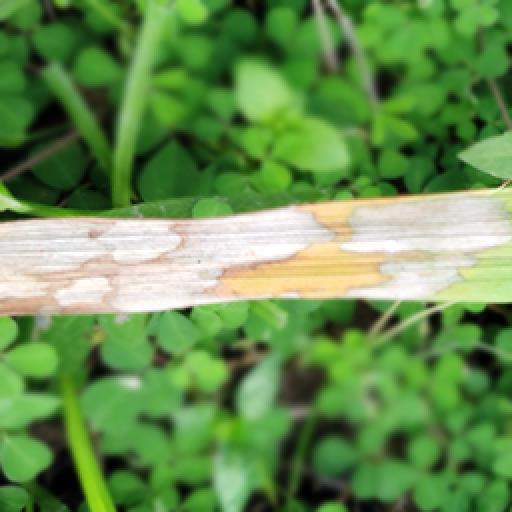Sheath Blight: (0, 184, 512, 320)
